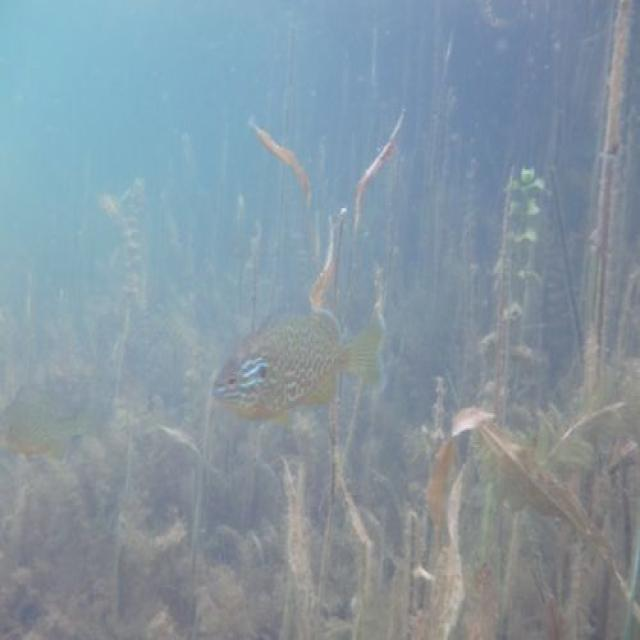Gunes Levregi: (208, 307, 394, 422)
